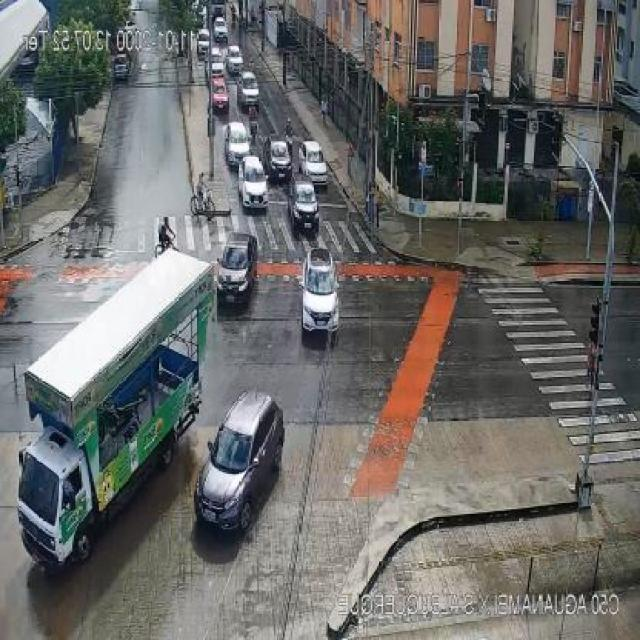Car: (191, 387, 286, 530), (215, 230, 258, 306), (237, 156, 270, 210), (289, 178, 321, 232), (300, 140, 329, 185), (265, 135, 292, 180), (223, 121, 249, 165), (224, 44, 245, 72), (212, 15, 230, 42), (114, 54, 133, 76)
Cycle: (95, 389, 151, 445), (190, 189, 220, 218), (155, 236, 182, 255), (284, 132, 296, 154), (248, 119, 259, 138)
Truck: (13, 245, 218, 572), (208, 0, 227, 20)
Van: (237, 71, 258, 111)
